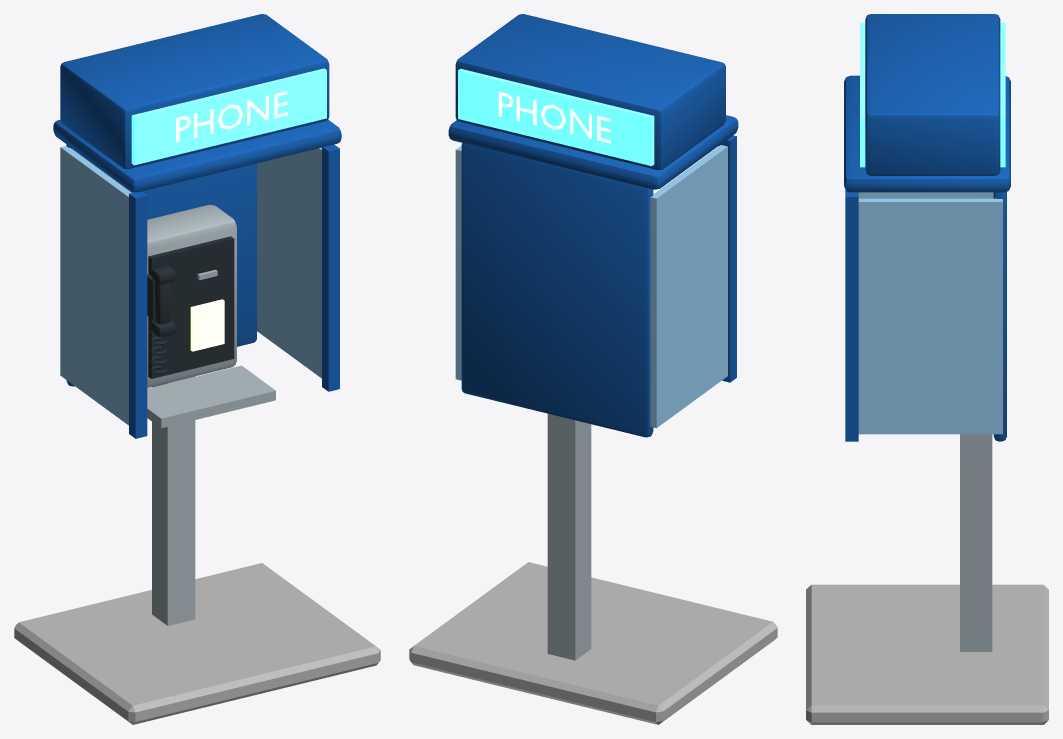
Rendered from hustle_payphone.glb.
The picture shows the model from 3 angles, left to right: view 1: azimuth 30°, elevation 25°; view 2: azimuth 150°, elevation 25°; view 3: azimuth 270°, elevation 25°; orthographic projection.
Visible parts, largest first — view 1: Payphone_body, Handset; view 2: Payphone_body; view 3: Payphone_body.
Part boxes in pixels (bbox=[...]): Payphone_body: bbox=[14, 14, 380, 724]; Handset: bbox=[151, 266, 175, 337]; Payphone_body: bbox=[409, 14, 777, 724]; Payphone_body: bbox=[806, 14, 1048, 724].
Size of the model in its own units: 1.1 by 2.46 by 0.9.
